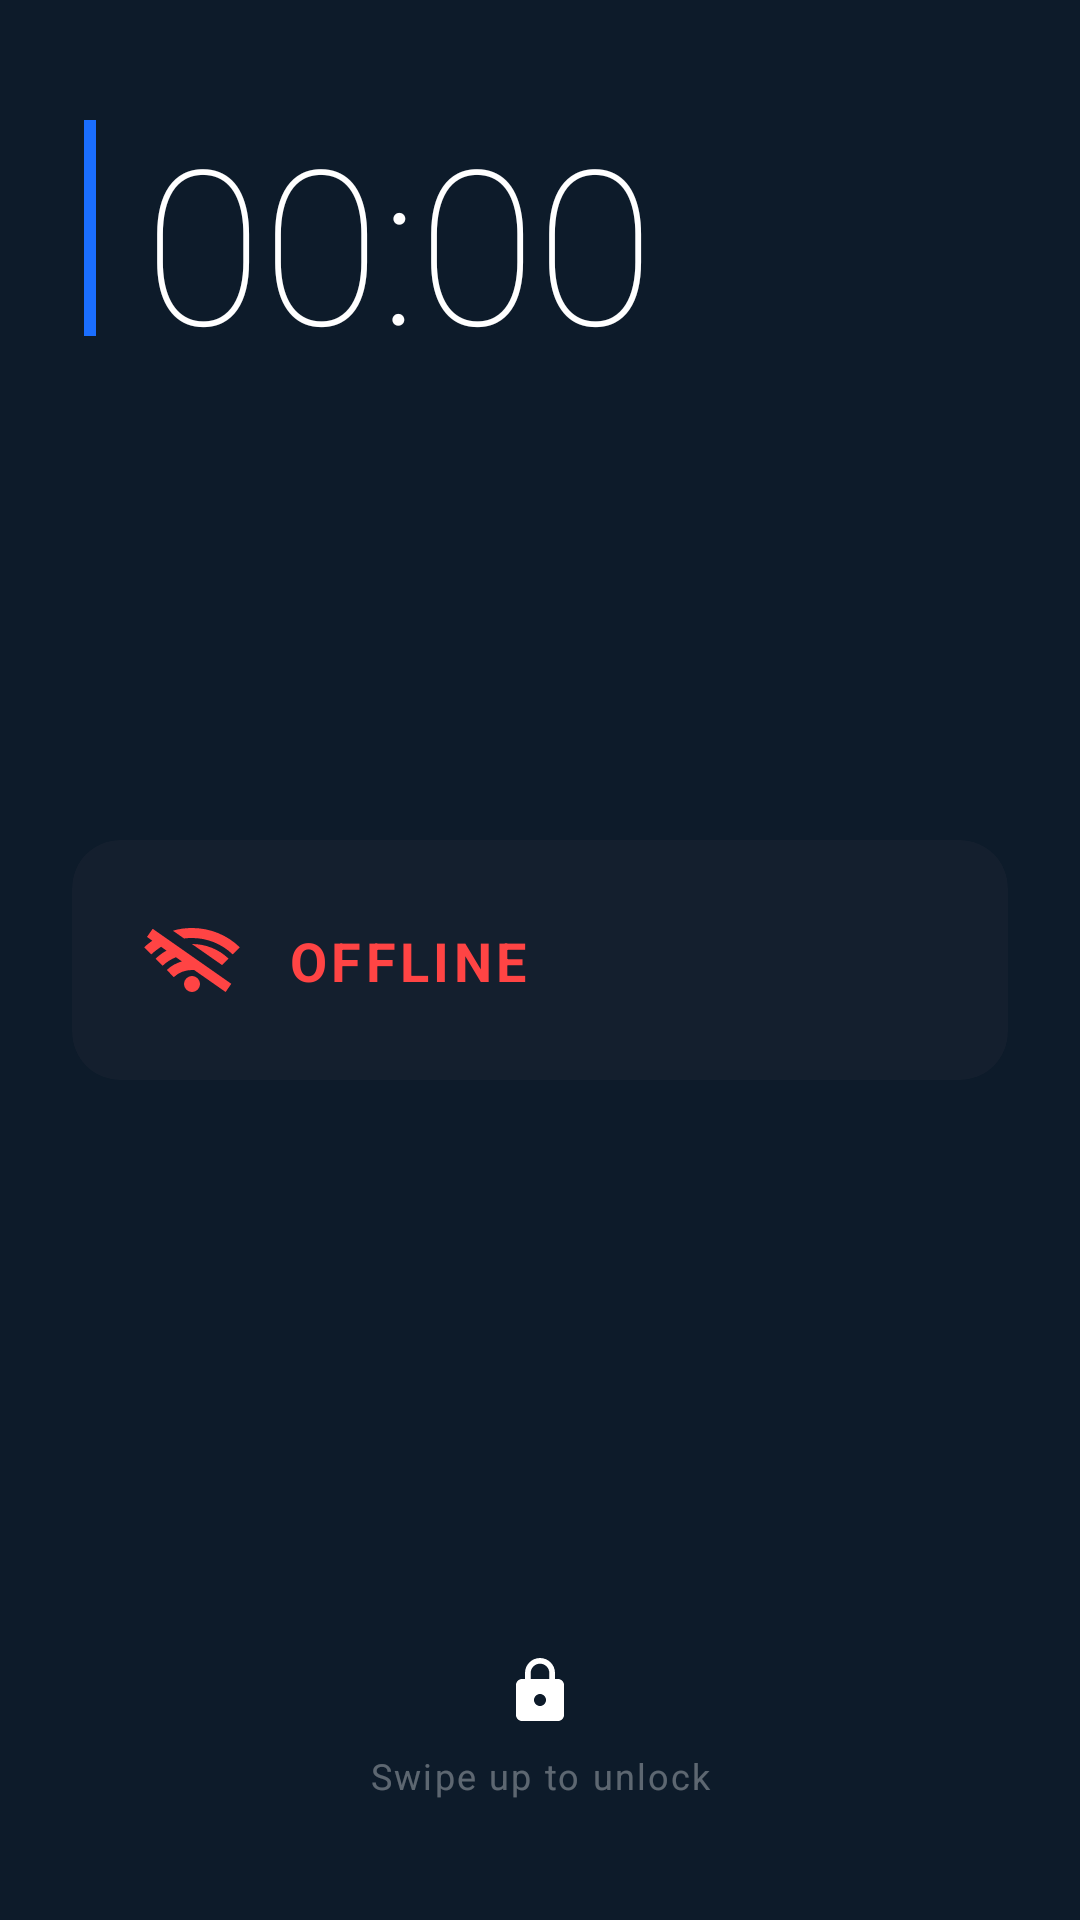

Screen size 1080px×1920px. Icon name, then its box in pixels as {"left": x1, "top": y1, "right": x2, "bottom": y2}:
wifi off: {"left": 144, "top": 928, "right": 240, "bottom": 992}
